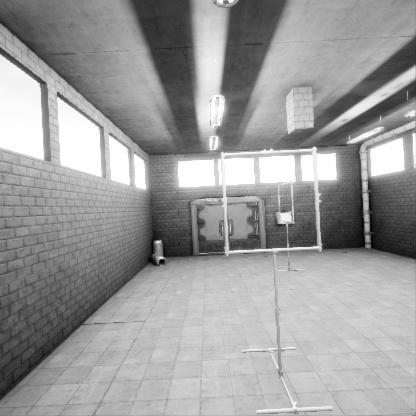gate: (223, 167, 324, 268), (277, 194, 294, 236)
